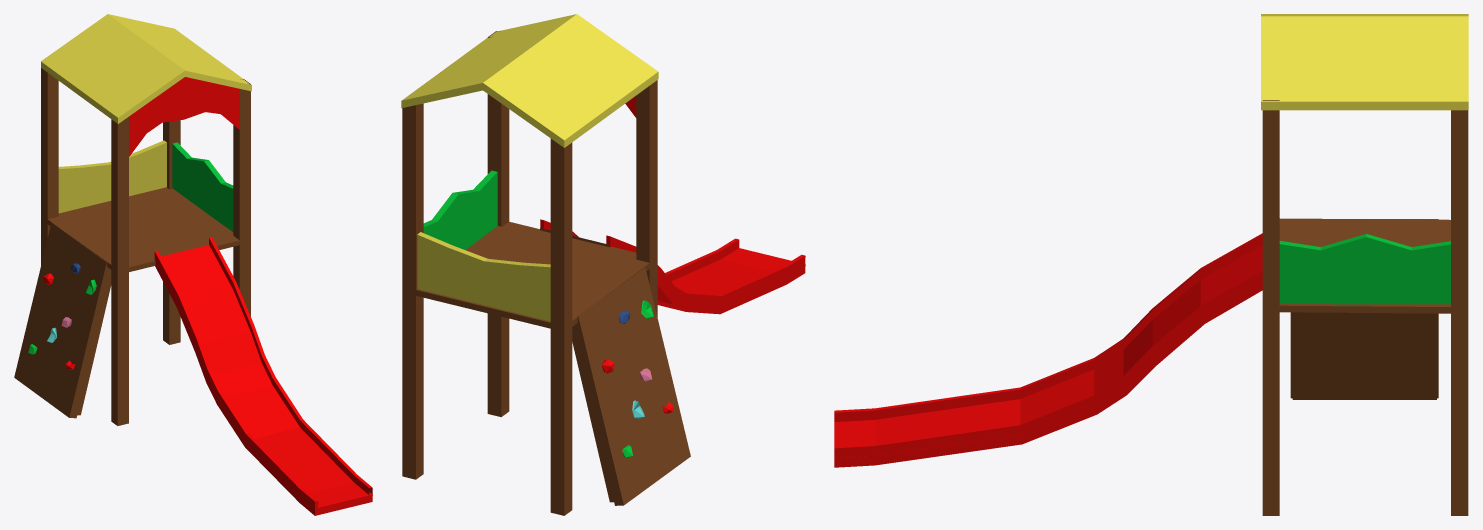
Rendered from zjezdzalnia.fbx.
3 views of the same model, side by side, from view 1: azimuth 30°, elevation 25°; view 2: azimuth 150°, elevation 25°; view 3: azimuth 270°, elevation 25° (orthographic). The views are drawn at different scales.
Visible parts, largest first — view 1: Cube; view 2: Cube; view 3: Cube.
Part boxes in pixels (x1=…): Cube: x1=14, y1=14, x2=372, y2=515; Cube: x1=401, y1=14, x2=805, y2=515; Cube: x1=834, y1=14, x2=1468, y2=515.
Bounding box in the file's own units: 308 × 244 × 129.
